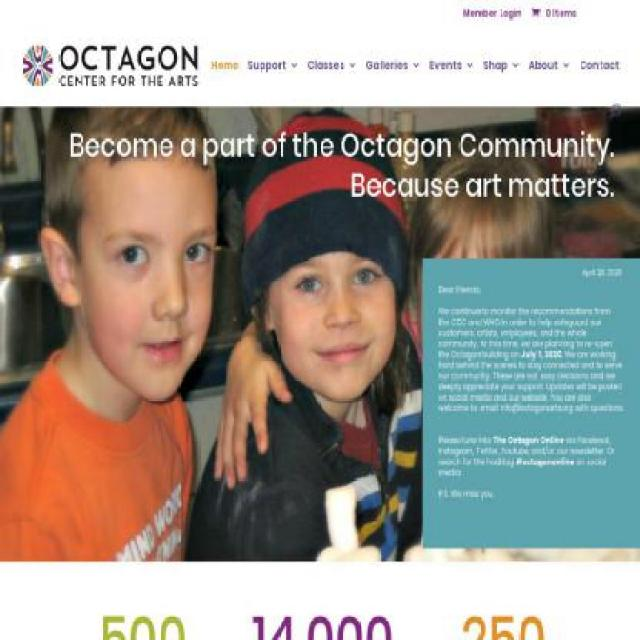button: (20, 57, 200, 72), (365, 59, 421, 104), (247, 59, 299, 104), (308, 59, 357, 104), (429, 59, 474, 104), (529, 59, 571, 104), (579, 59, 619, 104), (483, 59, 520, 104), (211, 59, 238, 104), (462, 8, 521, 26)
